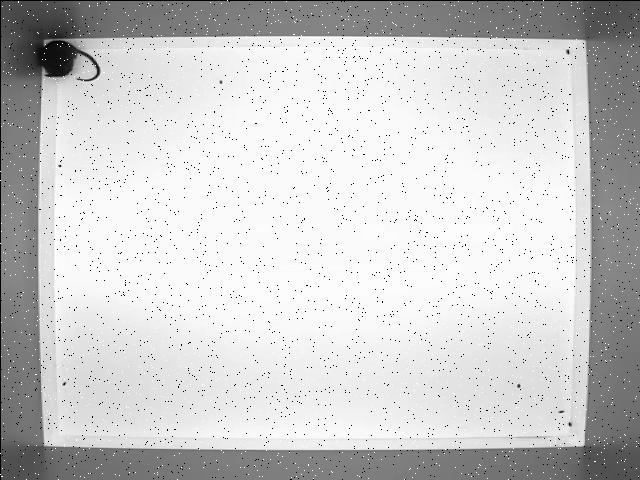Tikus: (36, 38, 102, 85)
